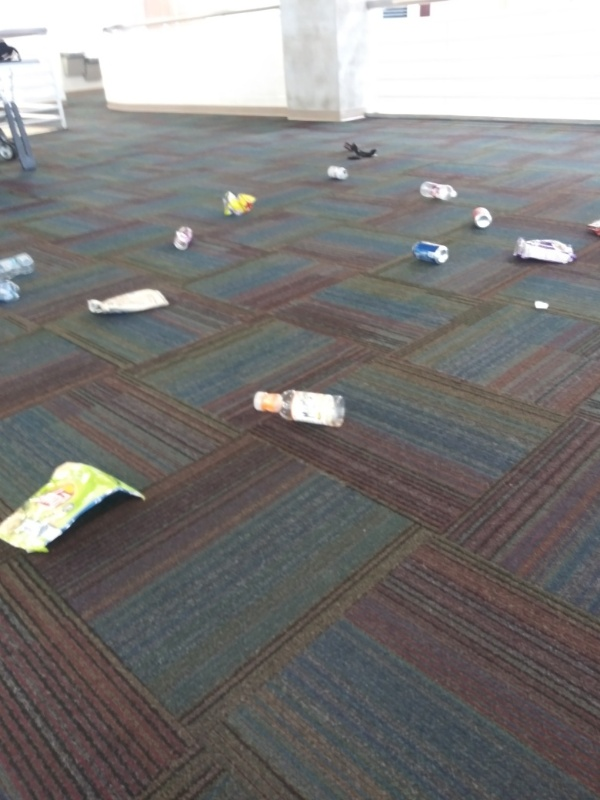bag: (1, 456, 153, 563), (77, 283, 175, 318), (508, 234, 580, 268), (217, 188, 261, 220)
bottle: (245, 385, 351, 430), (1, 244, 41, 280), (417, 178, 462, 208), (1, 278, 21, 310)
can: (406, 238, 456, 268), (467, 202, 497, 234), (170, 223, 194, 255), (323, 161, 353, 183)
